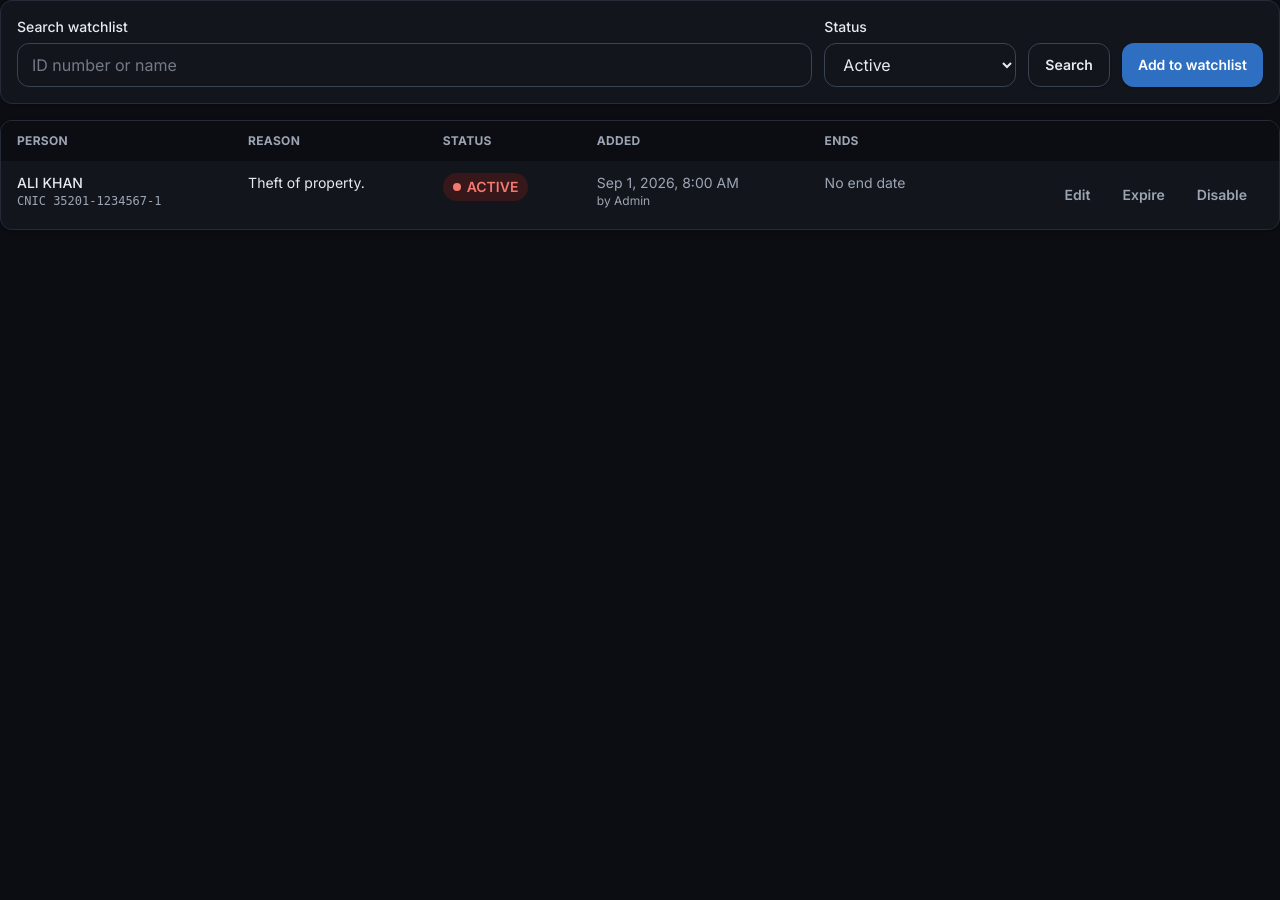
Test case: WatchlistManager › expires an entry after confirmation
Click the button with aria-label "Expire Ali Khan": [1144, 195] box [1106,173,1181,217]
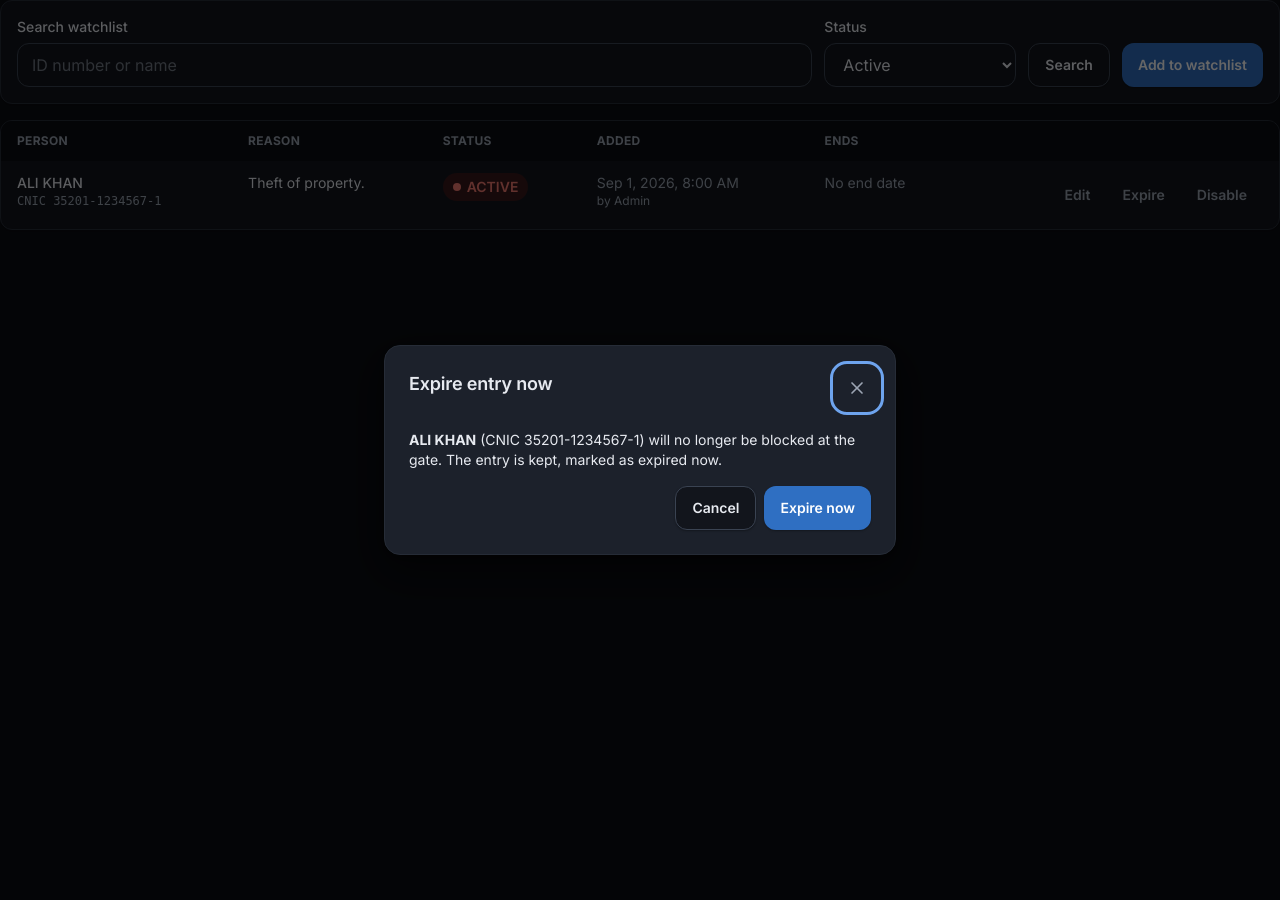
Click the button "Expire now": [818, 508] box [764,486,871,530]
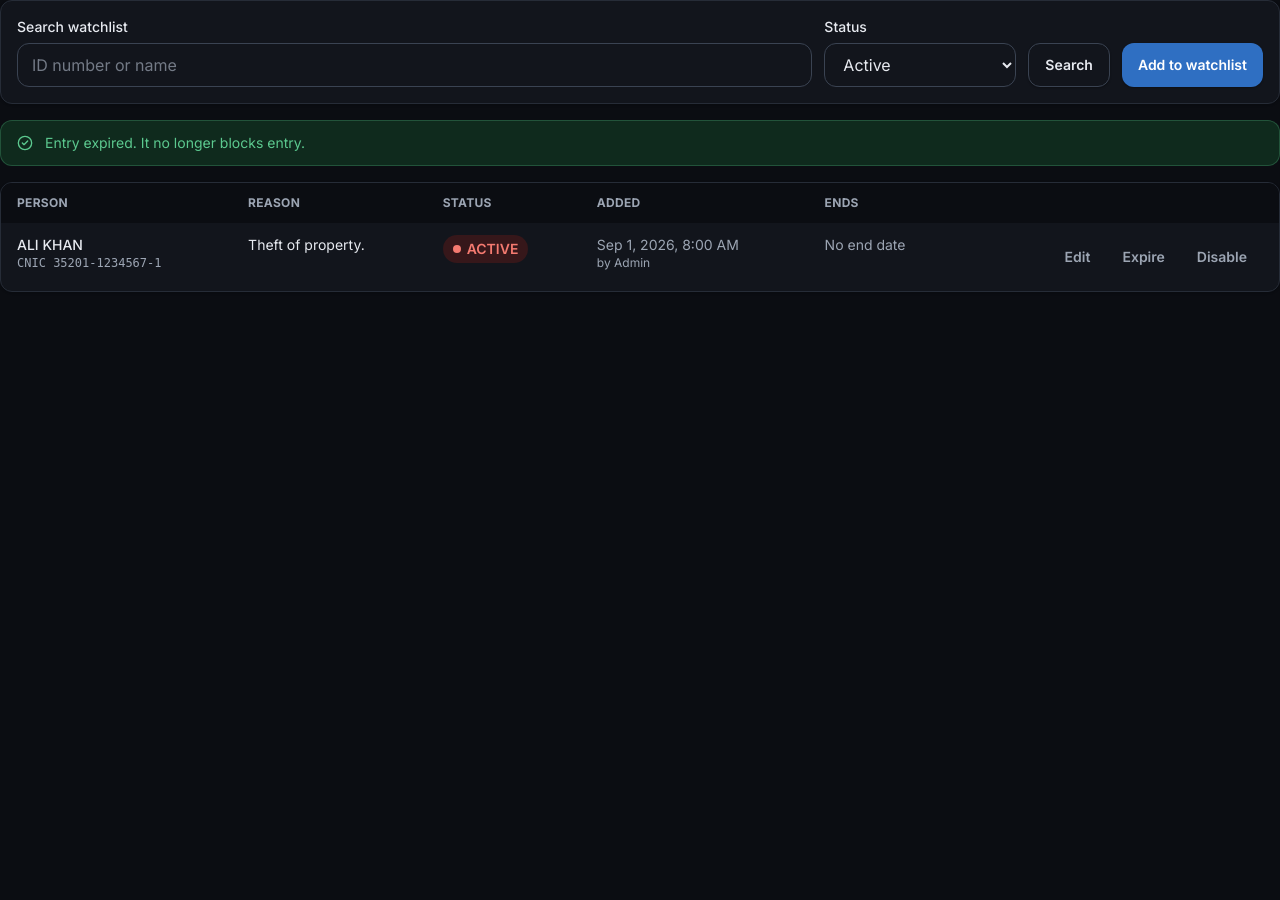
Now the text "Entry expired. It no longer blocks entry." is shown, box [45,134,305,151]
